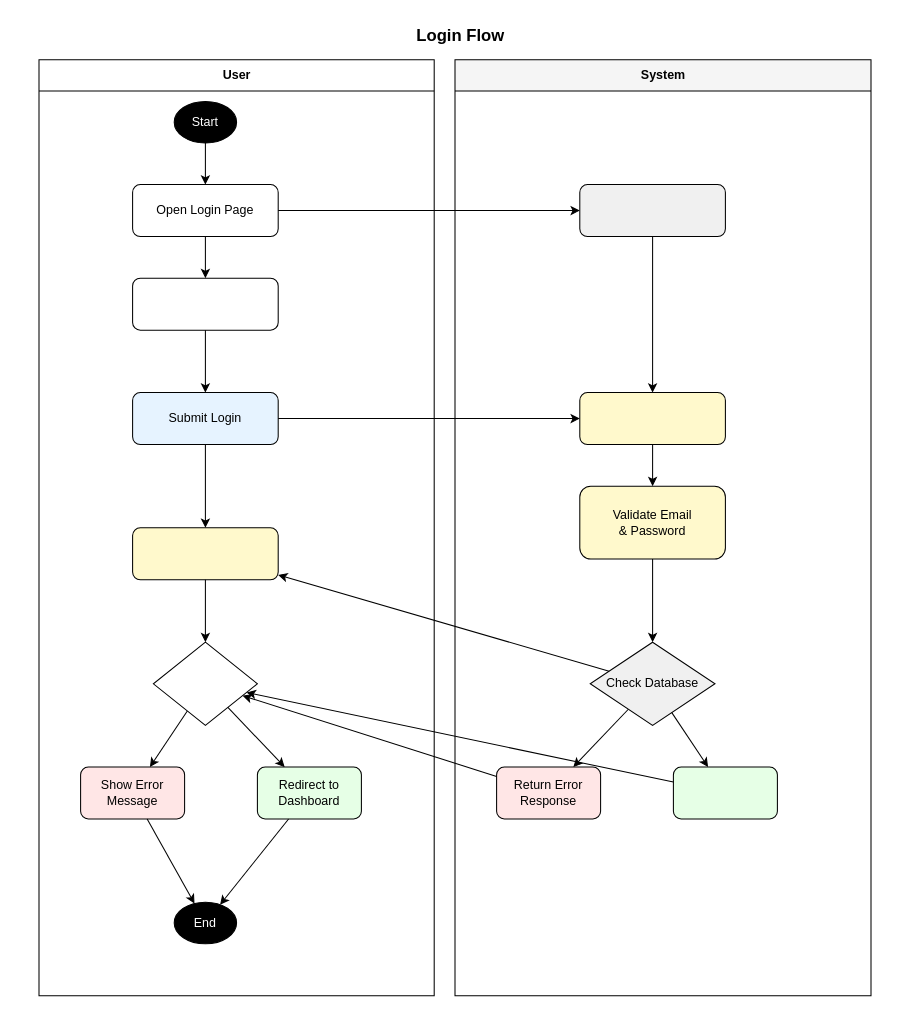
Some shapes in this 919 by 1014 pixel diagram are drawn without their labels. Here are the shapes that lost their labels. From the top down, the centre of each, then its label:
(652,210): Display Login Form
(205,303): Enter Email & Password
(652,418): Receive Credentials
(205,553): Wait for Response
(204,683): Valid?
(724,792): Set Auth Token Cookie
